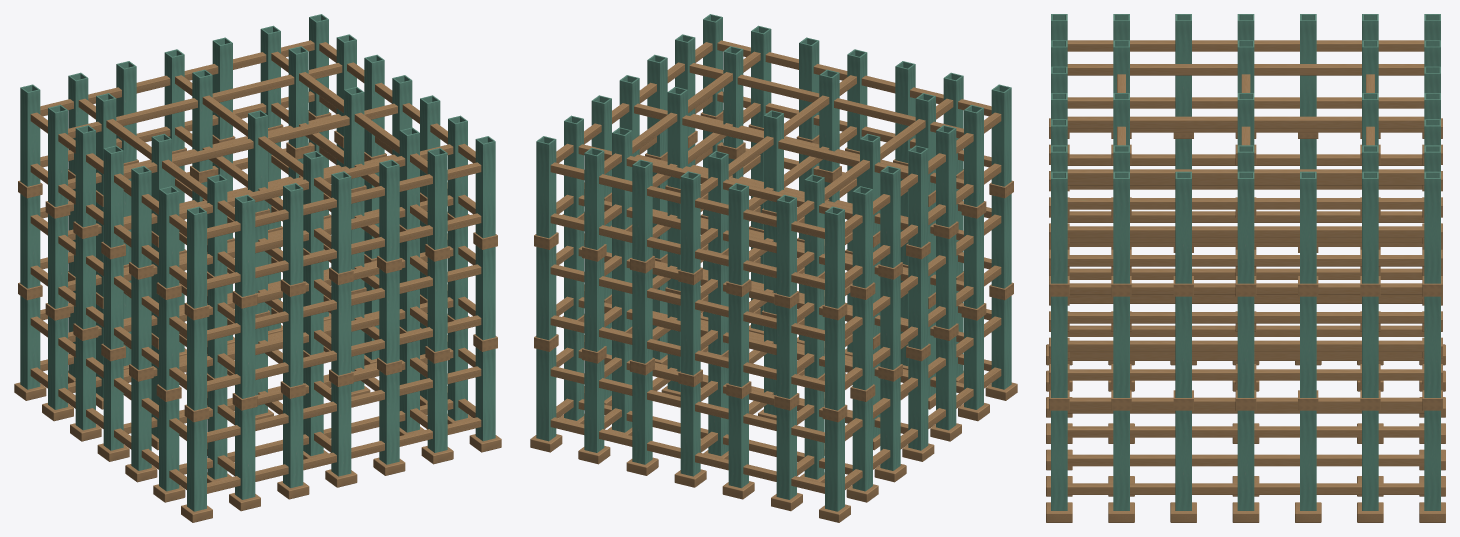
The picture shows the model from 3 angles, left to right: view 1: azimuth 30°, elevation 25°; view 2: azimuth 150°, elevation 25°; view 3: azimuth 270°, elevation 25°; orthographic projection. The views are drawn at different scales.
Parts seen in each view (by area): view 1: Tier 2 internal tie 0-0-0-0.75, Tier 2 internal tie 0-0.56-0-0.75, Tier 0 tie 0-0-0.25, Tier 0 tie 0-0-0.75, Tier 1 tie 0-0-0.25, Tier 2 tie 0-0-0.75, Tier 1 tie 0-0-0.75, Tier 2 tie 0-0-0.25, Tier 2 upright 2, Tier 2 upright 1, Tier 2 upright 0, Tier 2 upright 3 (+91 smaller); view 2: Tier 2 internal tie 0-0-0-0.75, Tier 2 internal tie 0--0.56-0-0.75, Tier 0 tie 2-0-0.25, Tier 0 tie 2-0-0.75, Tier 1 tie 2-0-0.25, Tier 2 tie 2-0-0.75, Tier 1 tie 2-0-0.75, Tier 2 tie 2-0-0.25, Tier 2 upright 16, Tier 2 upright 17, Tier 2 upright 18, Tier 2 upright 15 (+91 smaller); view 3: Tier 2 internal tie 1-0-0-0.75, Tier 2 internal tie 1--0.56-0-0.75, Tier 0 internal tie 1-0.56-0-0.25, Tier 2 internal tie 1-0.56-0-0.75, Tier 0 tie 1-0-0.25, Tier 0 tie 1-0-0.75, Tier 1 tie 1-0-0.25, Tier 1 tie 1-0-0.75, Tier 2 internal tie 1-0.56-0-0.25, Tier 2 tie 1-0-0.25, Tier 2 tie 1-0-0.75, Tier 2 tie 3-0-0.25 (+51 smaller).
Boxes of the visible parts, left/top/right/bottom form: Tier 2 internal tie 0-0-0-0.75: left=123, top=103, right=397, bottom=178; Tier 2 internal tie 0-0.56-0-0.75: left=68, top=63, right=342, bottom=138; Tier 0 tie 0-0-0.25: left=207, top=417, right=481, bottom=493; Tier 0 tie 0-0-0.75: left=207, top=366, right=481, bottom=442; Tier 1 tie 0-0-0.25: left=207, top=315, right=481, bottom=391; Tier 2 tie 0-0-0.75: left=207, top=162, right=481, bottom=238; Tier 1 tie 0-0-0.75: left=207, top=264, right=481, bottom=340; Tier 2 tie 0-0-0.25: left=207, top=213, right=481, bottom=289; Tier 2 upright 2: left=283, top=183, right=303, bottom=285; Tier 2 upright 1: left=235, top=194, right=255, bottom=296; Tier 2 upright 0: left=187, top=206, right=206, bottom=308; Tier 2 upright 3: left=331, top=171, right=351, bottom=273; Tier 2 internal tie 0-0-0-0.75: left=634, top=103, right=908, bottom=178; Tier 2 internal tie 0--0.56-0-0.75: left=689, top=63, right=963, bottom=138; Tier 0 tie 2-0-0.25: left=550, top=417, right=824, bottom=493; Tier 0 tie 2-0-0.75: left=550, top=366, right=824, bottom=442; Tier 1 tie 2-0-0.25: left=550, top=315, right=824, bottom=391; Tier 2 tie 2-0-0.75: left=550, top=162, right=824, bottom=238; Tier 1 tie 2-0-0.75: left=550, top=264, right=824, bottom=340; Tier 2 tie 2-0-0.25: left=550, top=213, right=824, bottom=289; Tier 2 upright 16: left=728, top=183, right=748, bottom=285; Tier 2 upright 17: left=776, top=194, right=796, bottom=296; Tier 2 upright 18: left=825, top=206, right=844, bottom=308; Tier 2 upright 15: left=680, top=171, right=700, bottom=273; Tier 2 internal tie 1-0-0-0.75: left=1067, top=116, right=1424, bottom=128; Tier 2 internal tie 1--0.56-0-0.75: left=1067, top=64, right=1424, bottom=75; Tier 0 internal tie 1-0.56-0-0.25: left=1067, top=454, right=1424, bottom=466; Tier 2 internal tie 1-0.56-0-0.75: left=1067, top=169, right=1424, bottom=180; Tier 0 tie 1-0-0.25: left=1067, top=483, right=1424, bottom=494; Tier 0 tie 1-0-0.75: left=1067, top=426, right=1424, bottom=437; Tier 1 tie 1-0-0.25: left=1067, top=369, right=1424, bottom=380; Tier 1 tie 1-0-0.75: left=1067, top=312, right=1424, bottom=323; Tier 2 internal tie 1-0.56-0-0.25: left=1067, top=226, right=1424, bottom=237; Tier 2 tie 1-0-0.25: left=1067, top=255, right=1424, bottom=266; Tier 2 tie 1-0-0.75: left=1067, top=198, right=1424, bottom=209; Tier 2 tie 3-0-0.25: left=1067, top=97, right=1424, bottom=108.
Bounding box in the file's own units: 1.8 × 1.7 × 1.8.
Materials: 2 (2 with a texture image).
